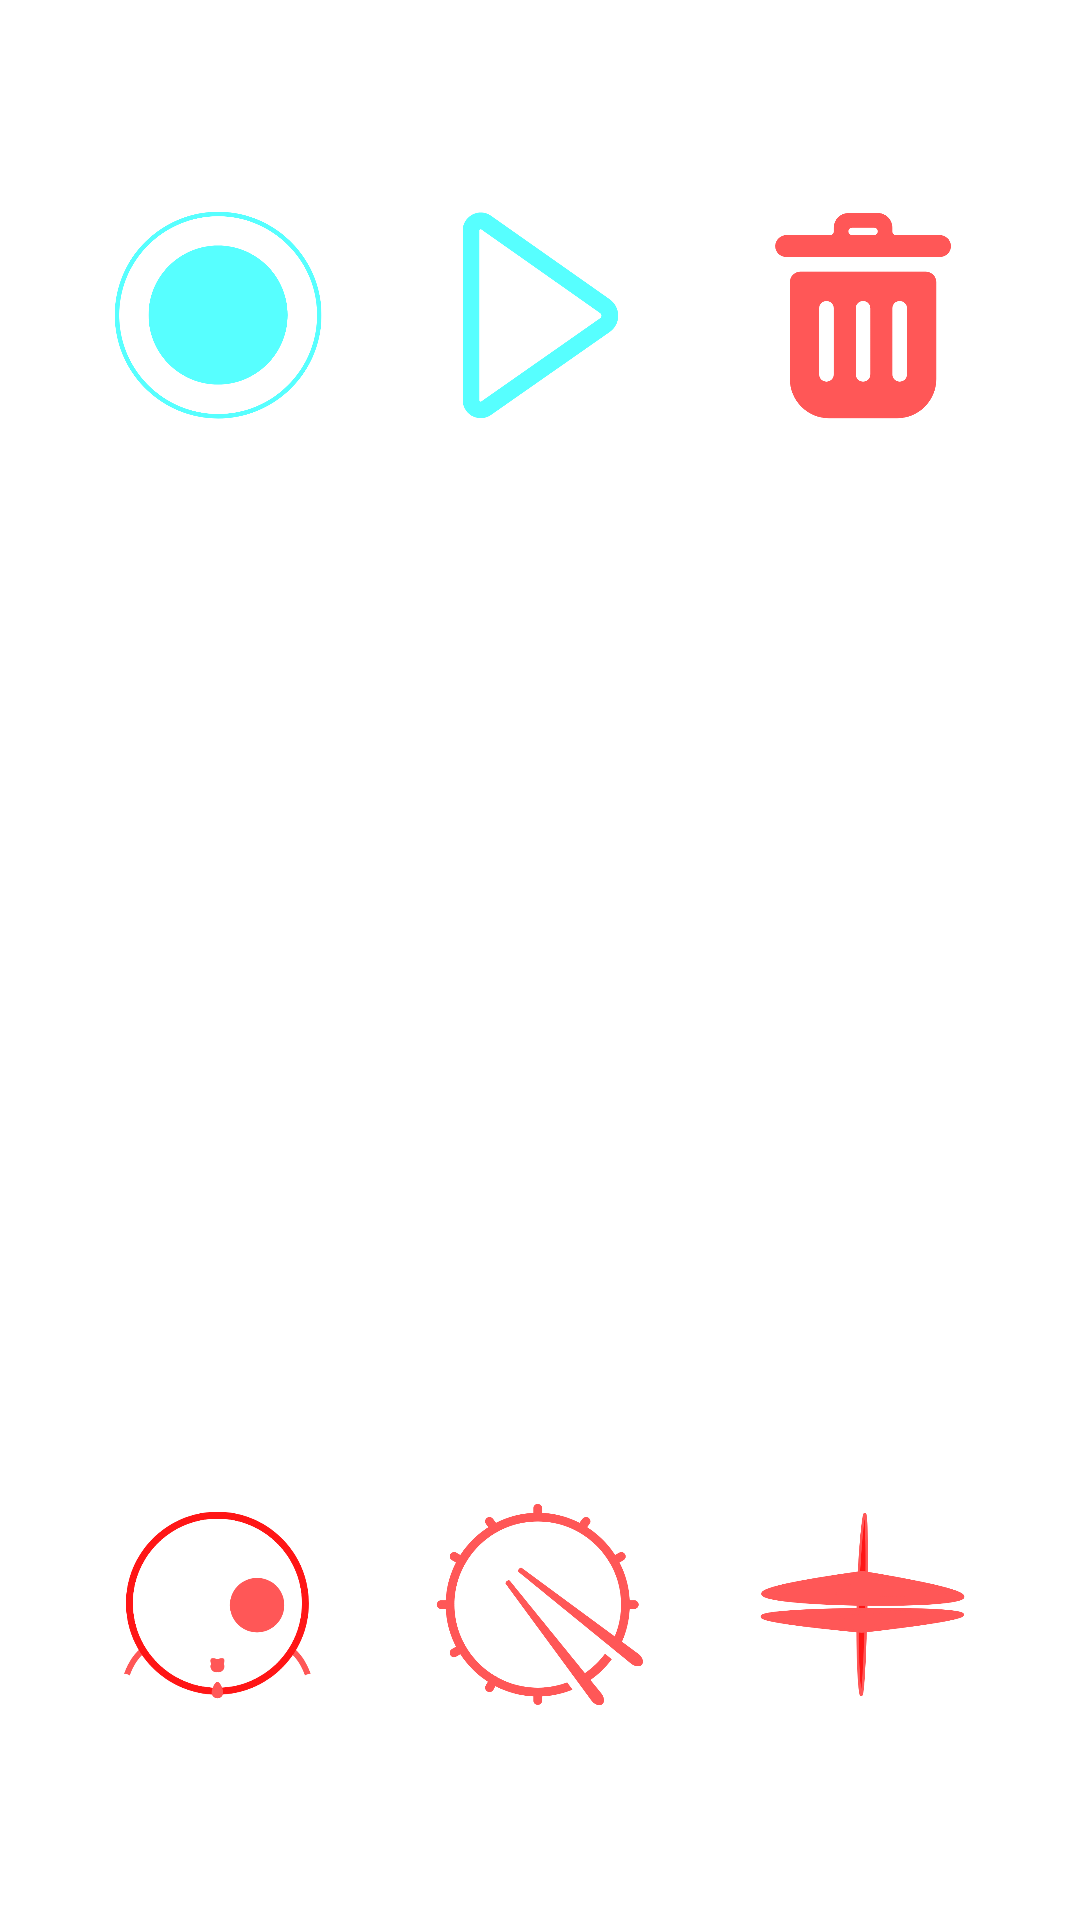

Point at icon controls on the screen. Image size 1080 × 1920, points as point (x, y).
bin: point (863, 316)
hat: point (862, 1604)
kick: point (217, 1605)
snare: point (540, 1604)
